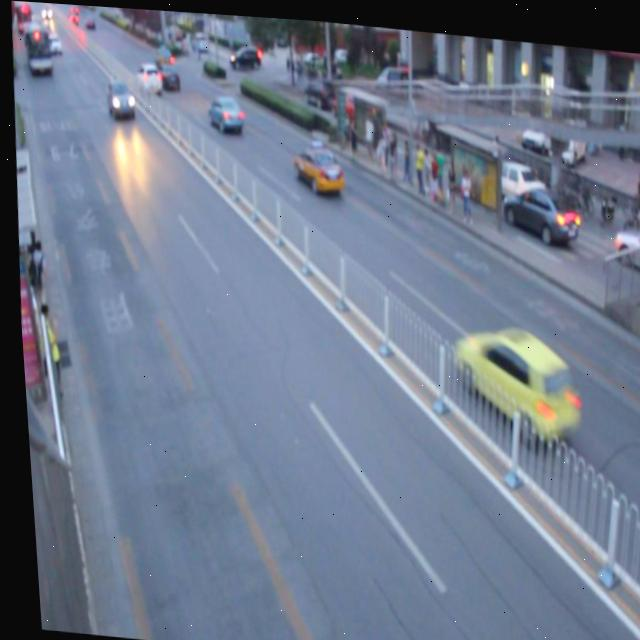car: (442, 311, 578, 441), (290, 135, 342, 192), (203, 90, 244, 132), (104, 75, 136, 119), (133, 58, 162, 96), (153, 60, 180, 90)
